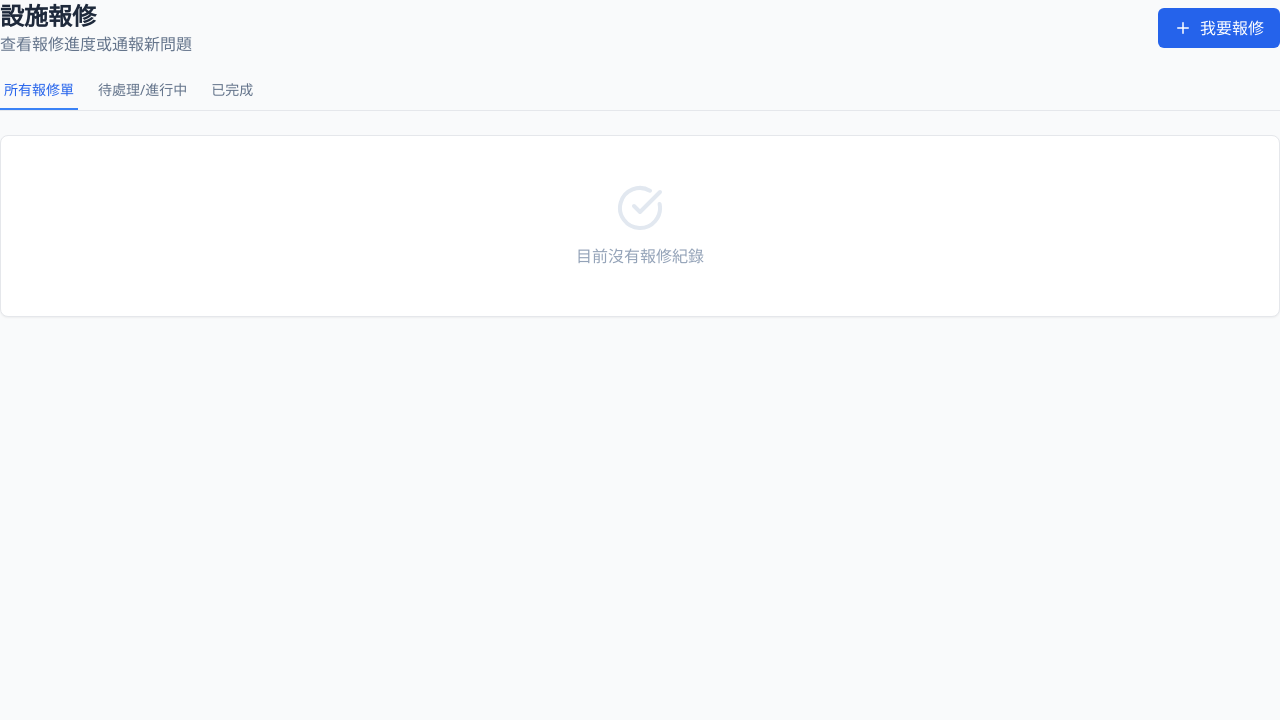
Test case: Repairs page — reporter info pre-fill and required validation › leaves 班級/部門 and 電話 blank when the User has no saved profile info yet
The width and height of the screenshot is (1280, 720).
Click the button "我要報修" at (1219, 28), box [1158, 8, 1279, 48]
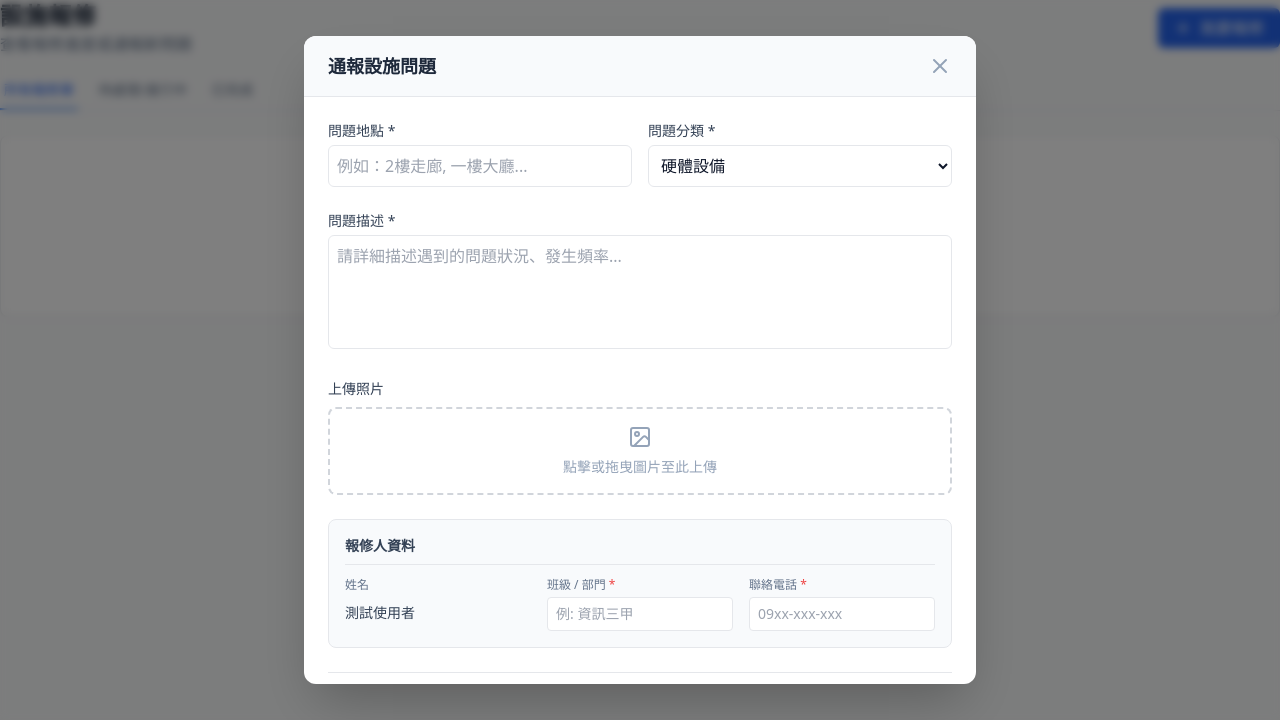
expect the heading "通報設施問題" is shown: met, box [328, 52, 436, 80]
expect the field with placeholder "例: 資訊三甲" is empty: met, box [547, 597, 733, 631]
expect the field with placeholder "09xx-xxx-xxx" is empty: met, box [749, 597, 935, 631]
